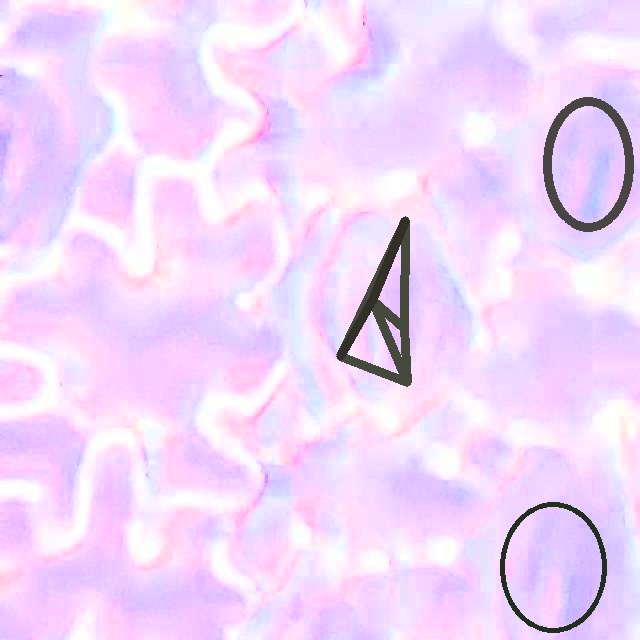close: (498, 502, 607, 632), (541, 96, 634, 233)
open: (337, 216, 408, 385)
